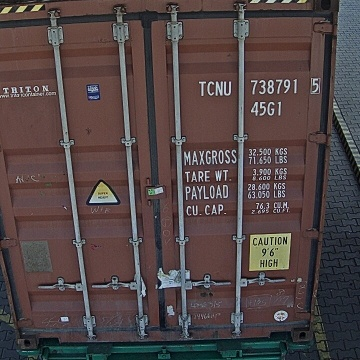serial_id: (199, 77, 321, 95)
